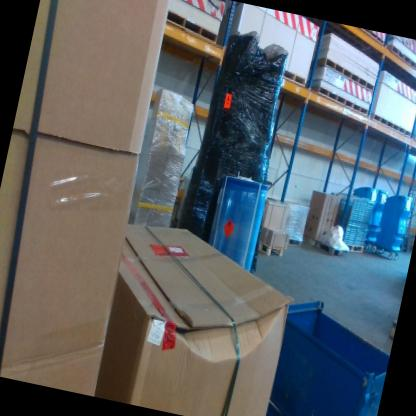pallet: (343, 242, 364, 254), (287, 236, 302, 248)
